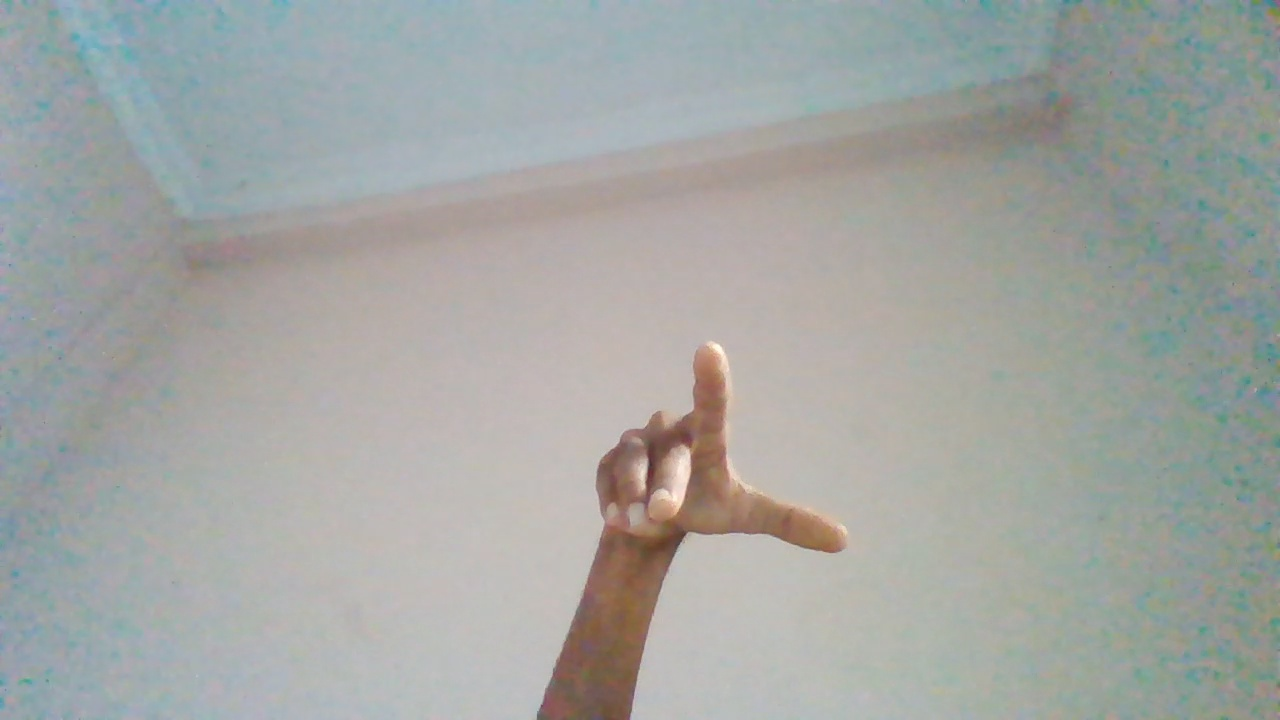ke: (590, 345, 851, 666)
